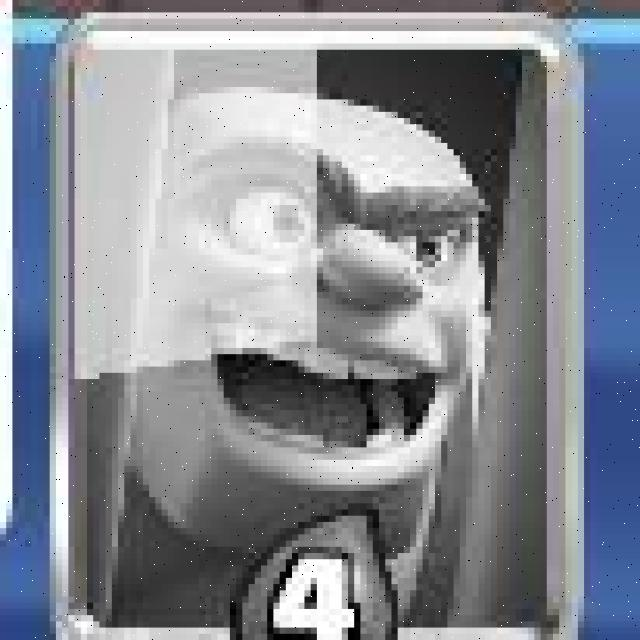Goblin_Cage: (51, 12, 584, 640)
